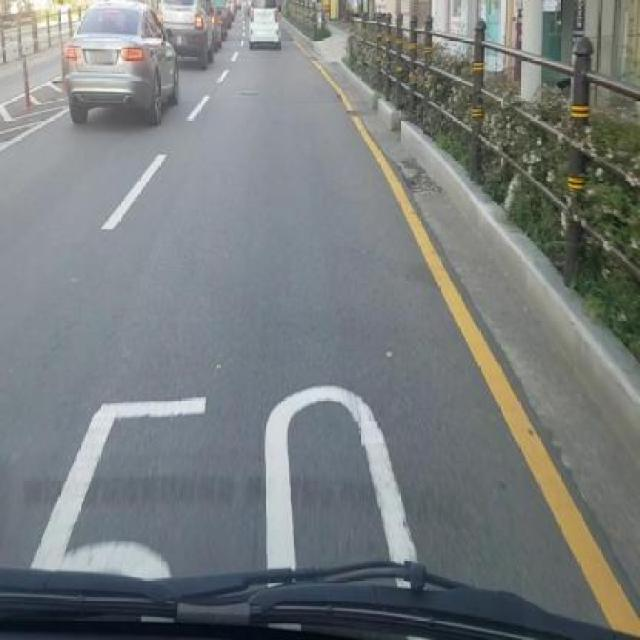Manhole: (0, 14, 22, 64), (16, 14, 38, 57), (236, 88, 261, 96)
Pothole: (378, 152, 456, 206)
